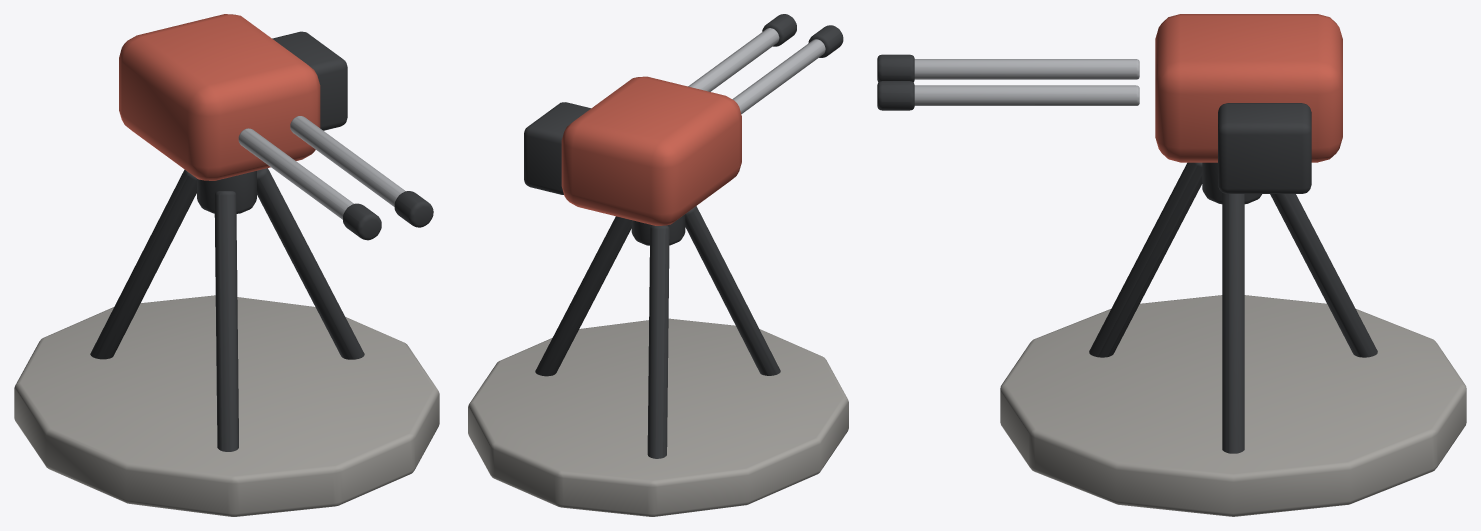
File: building_mgturret.glb
The picture shows the model from 3 angles, left to right: view 1: azimuth 30°, elevation 25°; view 2: azimuth 150°, elevation 25°; view 3: azimuth 270°, elevation 25°; orthographic projection. The views are drawn at different scales.
Visible parts, largest first — view 1: Cylinder, Cube, Cylinder.003, Cylinder.001, Cylinder.002, Cube.001, Cylinder.005, Cylinder.007, Cylinder.004, Cylinder.008, Cylinder.006; view 2: Cylinder, Cube, Cylinder.002, Cylinder.003, Cylinder.001, Cube.001, Cylinder.005, Cylinder.007, Cylinder.004, Cylinder.006, Cylinder.008; view 3: Cylinder, Cube, Cube.001, Cylinder.001, Cylinder.003, Cylinder.005, Cylinder.007, Cylinder.002, Cylinder.008, Cylinder.006, Cylinder.004.
Part boxes in pixels (bbox=[...]): Cylinder: bbox=[14, 295, 439, 516]; Cube: bbox=[119, 14, 320, 180]; Cylinder.003: bbox=[214, 191, 238, 451]; Cylinder.001: bbox=[257, 168, 364, 359]; Cylinder.002: bbox=[90, 169, 196, 359]; Cube.001: bbox=[272, 31, 347, 130]; Cylinder.005: bbox=[238, 128, 353, 219]; Cylinder.007: bbox=[290, 116, 405, 206]; Cylinder.004: bbox=[197, 171, 256, 213]; Cylinder.008: bbox=[394, 191, 433, 227]; Cylinder.006: bbox=[343, 203, 381, 240]; Cylinder: bbox=[468, 318, 848, 516]; Cube: bbox=[561, 76, 741, 225]; Cylinder.002: bbox=[647, 225, 669, 458]; Cylinder.003: bbox=[685, 206, 780, 375]; Cylinder.001: bbox=[535, 216, 631, 376]; Cube.001: bbox=[524, 102, 590, 194]; Cylinder.005: bbox=[732, 39, 825, 113]; Cylinder.007: bbox=[688, 28, 779, 91]; Cylinder.004: bbox=[631, 214, 685, 245]; Cylinder.006: bbox=[808, 25, 843, 57]; Cylinder.008: bbox=[762, 14, 796, 46]; Cylinder: bbox=[1000, 295, 1466, 516]; Cube: bbox=[1155, 14, 1342, 162]; Cube.001: bbox=[1218, 103, 1311, 193]; Cylinder.001: bbox=[1222, 193, 1244, 453]; Cylinder.003: bbox=[1089, 162, 1202, 357]; Cylinder.005: bbox=[914, 59, 1139, 79]; Cylinder.007: bbox=[914, 85, 1139, 105]; Cylinder.002: bbox=[1270, 194, 1377, 357]; Cylinder.008: bbox=[877, 81, 914, 110]; Cylinder.006: bbox=[877, 54, 914, 82]; Cylinder.004: bbox=[1202, 162, 1261, 204].
Bounding box in the file's own units: 1.4 × 1.37 × 1.89.
